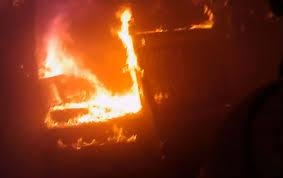fire: (36, 4, 149, 129)
